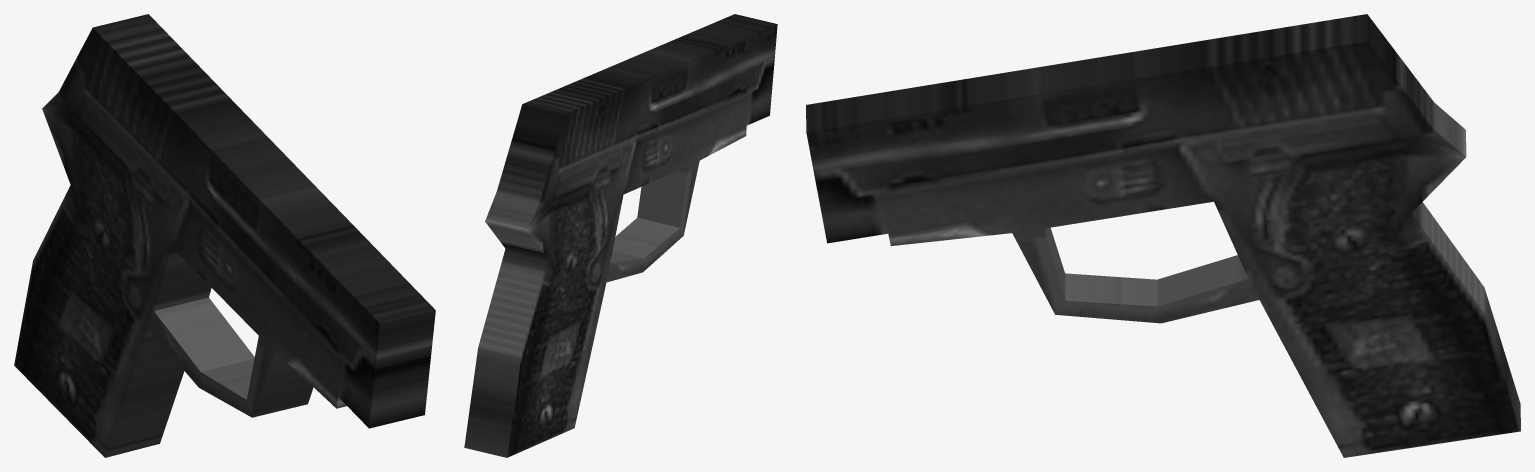
File: p228-world.glb
3 views of the same model, side by side, from view 1: azimuth 30°, elevation 25°; view 2: azimuth 150°, elevation 25°; view 3: azimuth 270°, elevation 25° (orthographic). The views are drawn at different scales.
Parts seen in each view (by area): view 1: p228 held; view 2: p228 held; view 3: p228 held.
Part boxes in pixels (bbox=[...]): p228 held: bbox=[14, 14, 435, 457]; p228 held: bbox=[464, 14, 777, 457]; p228 held: bbox=[806, 14, 1520, 457].
Bounding box in the file's own units: 0.021 × 0.1382 × 0.2146.
Materials: 1 (1 with a texture image).
